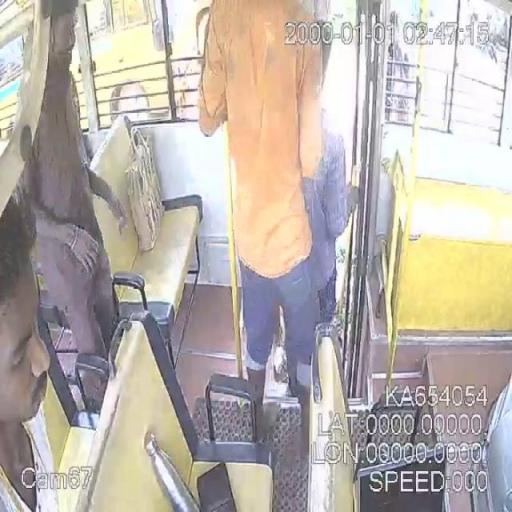persona: (196, 0, 333, 396), (30, 0, 127, 374), (0, 187, 59, 511)
